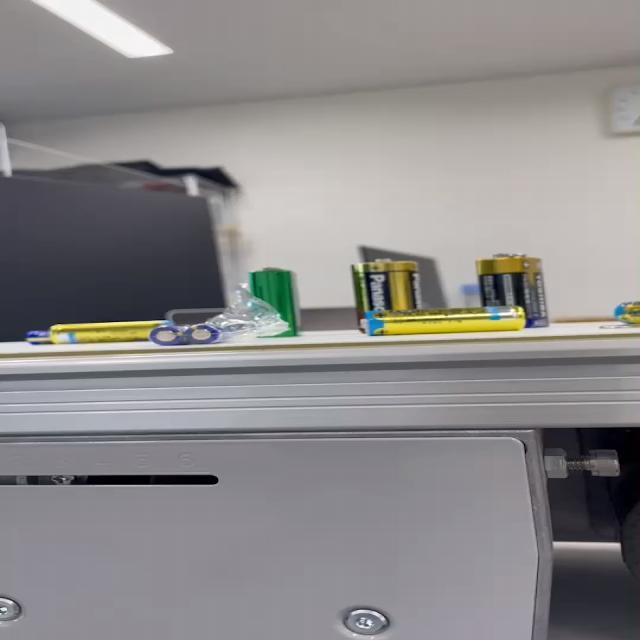9V: (246, 267, 303, 339)
